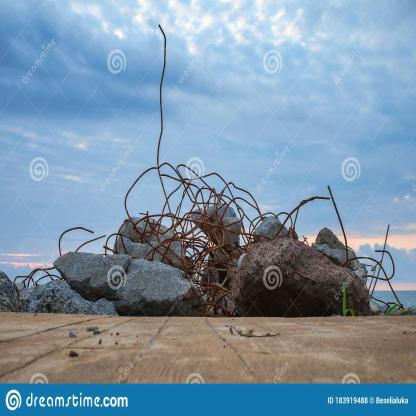rebar: (121, 21, 278, 314), (278, 185, 403, 311), (56, 220, 110, 260), (12, 264, 65, 292)
